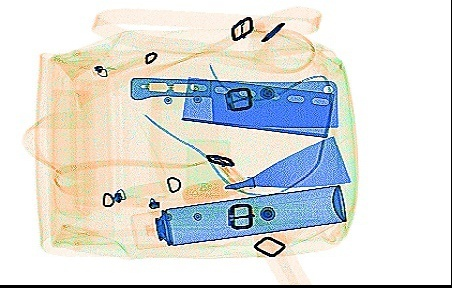knife: (129, 76, 338, 128)
pressure: (129, 184, 346, 249)
